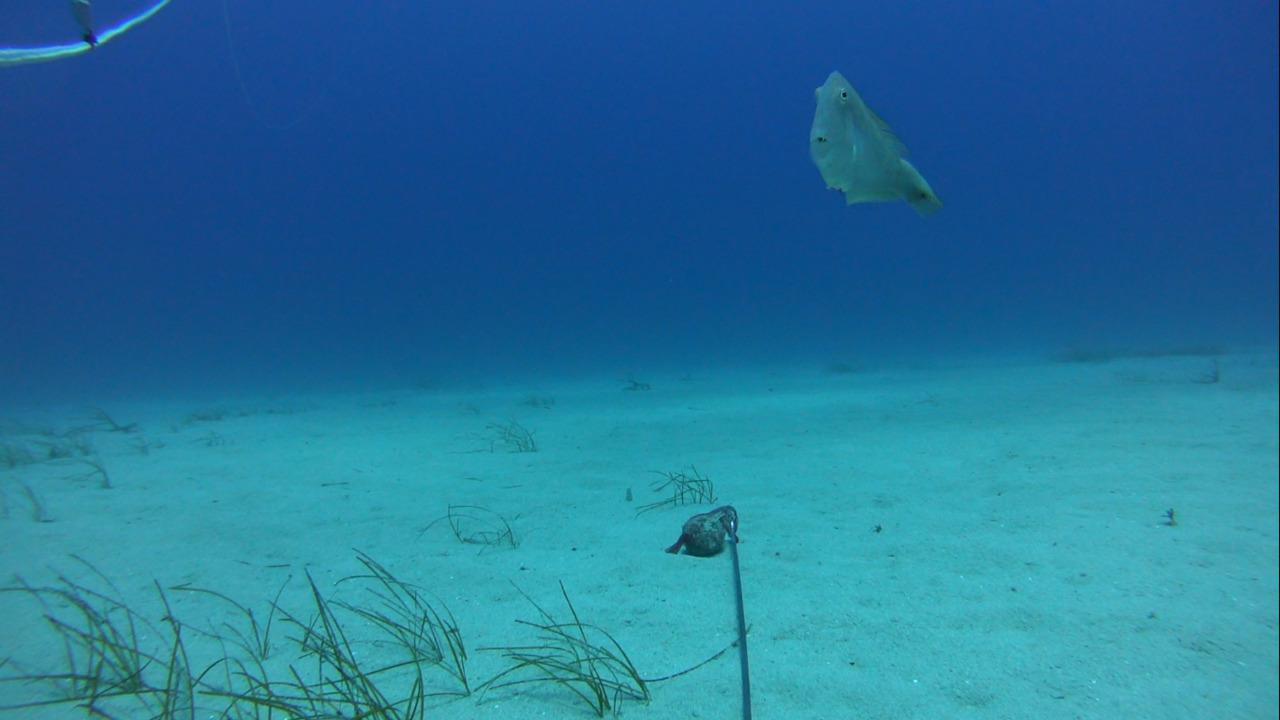raor: (803, 60, 939, 216)
